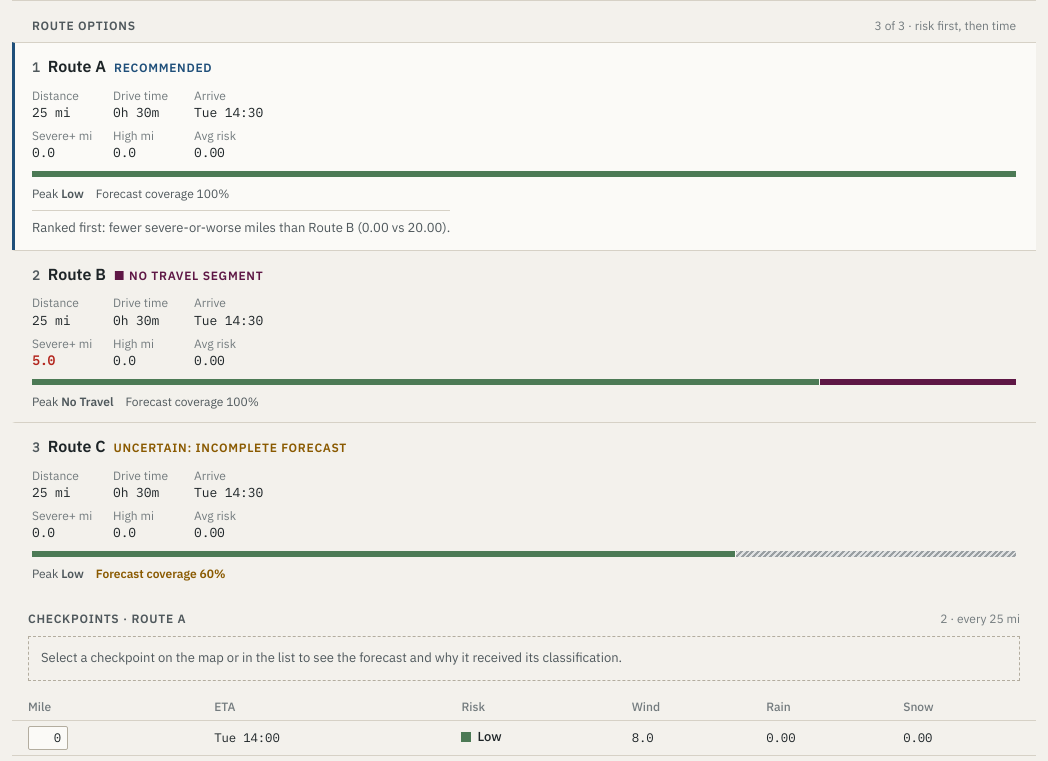
Scenario: RouteComparison › selecting a route updates the checkpoint panel and explanation
The width and height of the screenshot is (1048, 761).
Click the button named "Rank 2 Route B" at (524, 336), box [12,250,1036,422]
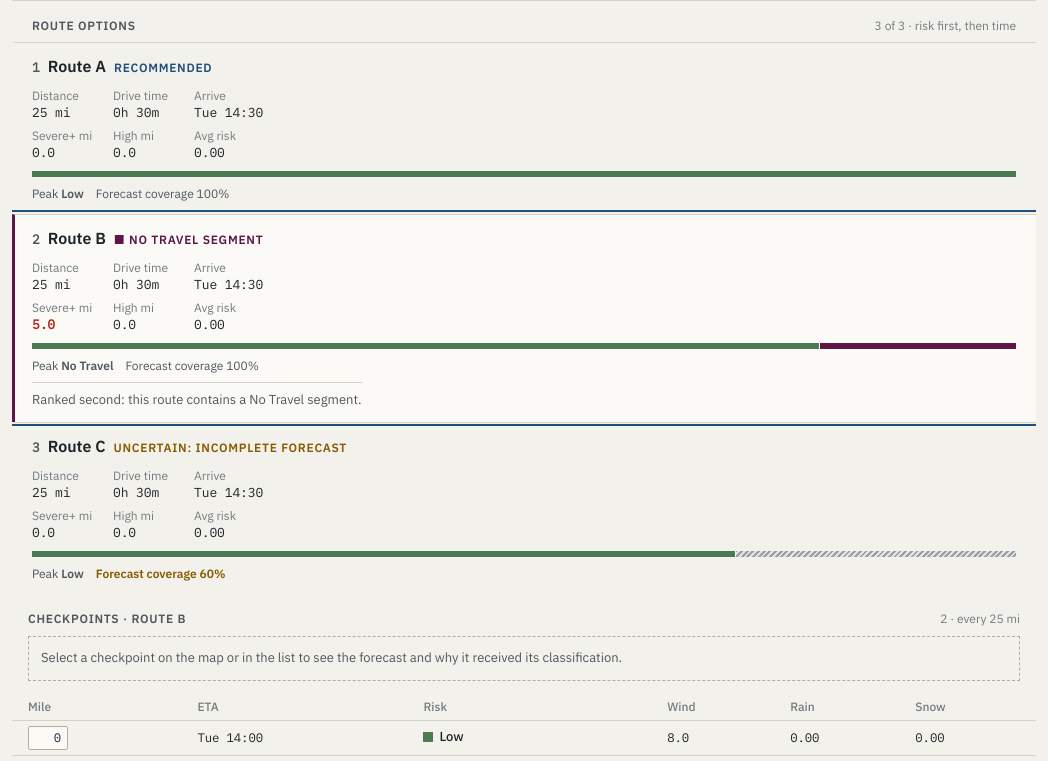
Expected: the heading "Checkpoints · Route B" is shown, [28,610,186,628]
Expected: the text "Ranked second: this route contains a No Travel segment." is shown, [32,382,362,410]
